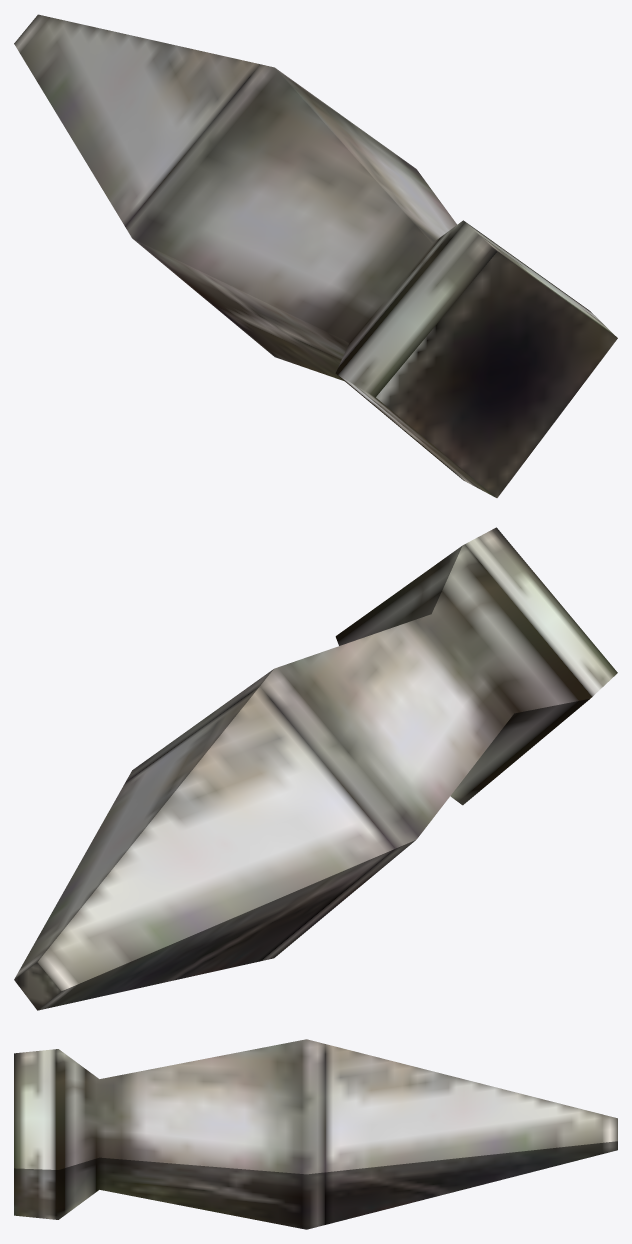
File: gun13_reload.obj
3 renders of one model, top to bottom at view 1: azimuth 30°, elevation 25°; view 2: azimuth 150°, elevation 25°; view 3: azimuth 270°, elevation 25°, orthographic. The views are drawn at different scales.
Visible parts, largest first — view 1: gun13_reload; view 2: gun13_reload; view 3: gun13_reload.
Part boxes in pixels (x1,y1,x2,y2): gun13_reload: (14, 14, 617, 497); gun13_reload: (14, 527, 617, 1010); gun13_reload: (14, 1039, 617, 1229).
Size of the model in its own units: 0.1599 by 0.1557 by 0.4472.
Materials: 1 (1 with a texture image).
